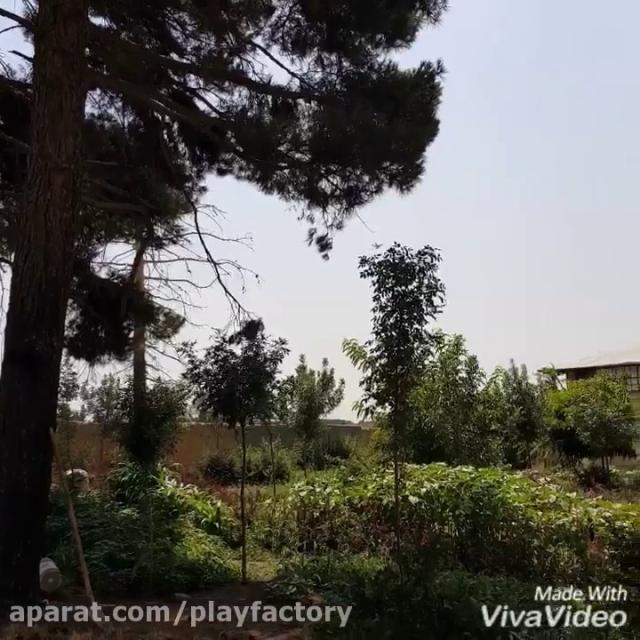drone: (366, 234, 389, 252)
